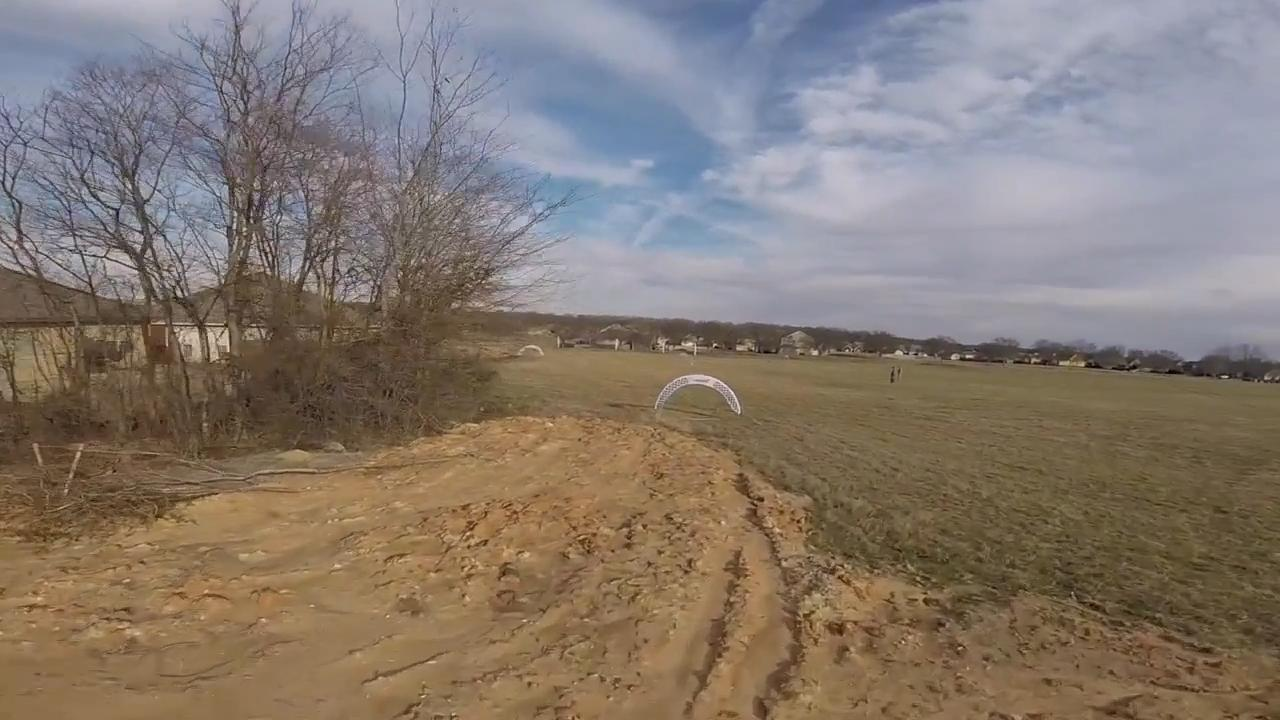gate: (646, 373, 742, 417)
